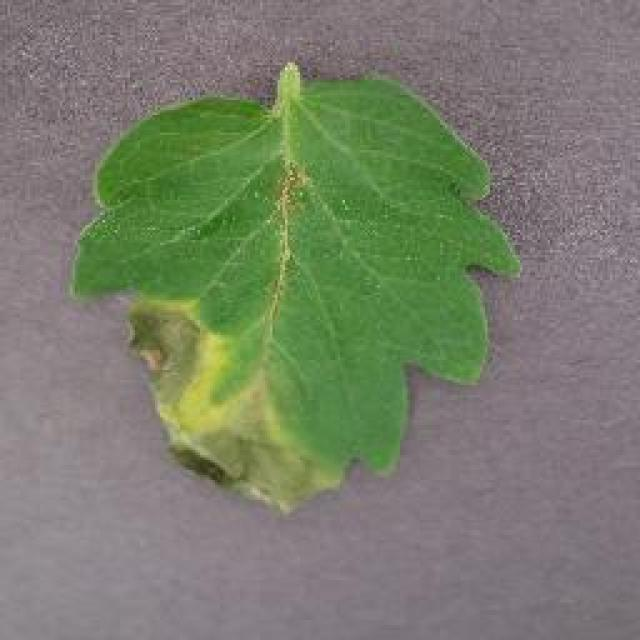Tomato Late Blight: (90, 275, 395, 523)
